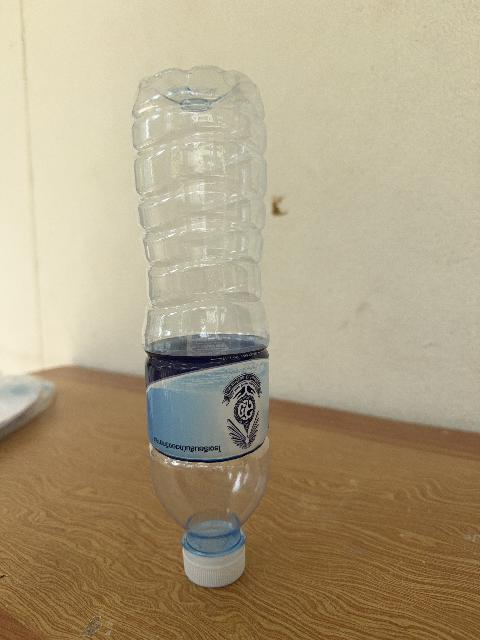bottle: (133, 67, 270, 586)
